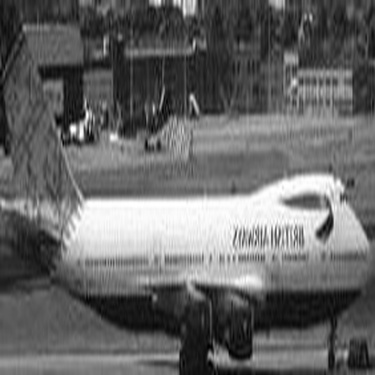airplane: (4, 8, 370, 367)
